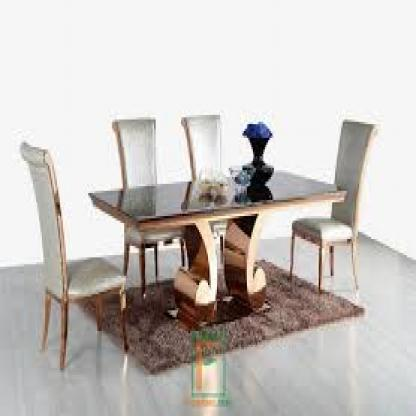Dining Table: (10, 108, 392, 333)
